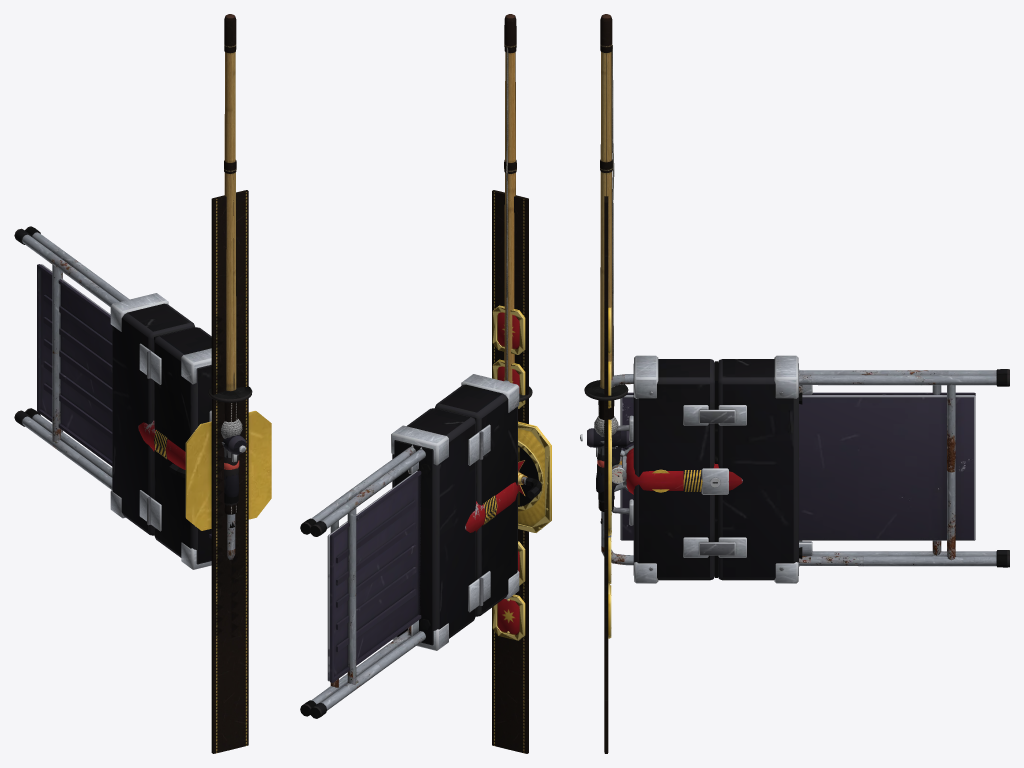
Rendered from props.glb.
The picture shows the model from 3 angles, left to right: view 1: azimuth 30°, elevation 25°; view 2: azimuth 150°, elevation 25°; view 3: azimuth 270°, elevation 25°; orthographic projection.
Parts seen in each view (by area): view 1: Prop_belt, Prop_case, Prop_chair, Prop_kendo, Prop_spray_tank, Prop_spray_gun, Prop_mic; view 2: Prop_case, Prop_chair, Prop_belt, Prop_kendo, Prop_spray_tank; view 3: Prop_case, Prop_chair, Prop_kendo, Prop_belt, Prop_spray_tank, Prop_spray_gun.
Boxes of the visible parts, x1,y1,x2,y2 form: Prop_belt: (185,190,271,753); Prop_case: (110,293,238,569); Prop_chair: (14,226,235,559); Prop_kendo: (208,14,252,514); Prop_spray_tank: (138,420,185,478); Prop_spray_gun: (223,435,246,527); Prop_mic: (221,418,242,469); Prop_case: (391,374,519,650); Prop_chair: (300,380,510,718); Prop_belt: (492,190,551,753); Prop_kendo: (504,14,532,401); Prop_spray_tank: (465,472,541,532); Prop_case: (598,355,802,583); Prop_chair: (601,369,1009,567); Prop_kendo: (584,14,628,511); Prop_belt: (604,196,611,753); Prop_spray_tank: (612,445,742,495); Prop_spray_gun: (580,428,633,523).
Size of the model in its own units: 0.2 by 1.66 by 0.8829.
Materials: 10 (7 with a texture image).
